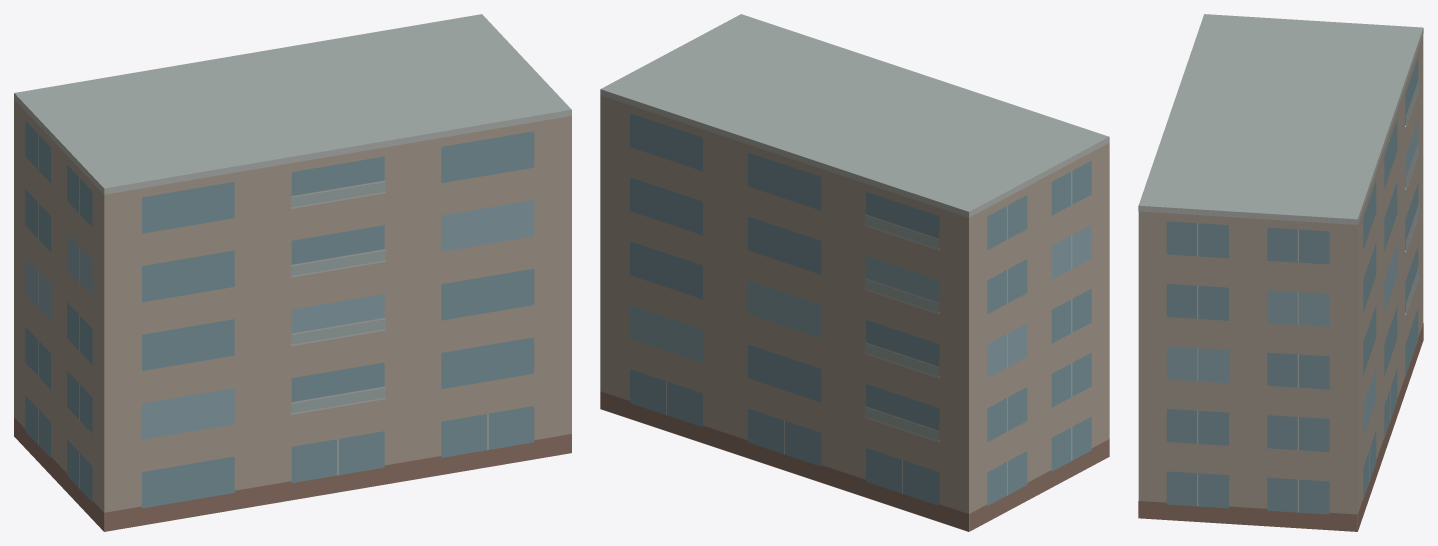
The model's file is survey-upis-32637642.glb.
The picture shows the model from 3 angles, left to right: view 1: azimuth 30°, elevation 25°; view 2: azimuth 150°, elevation 25°; view 3: azimuth 270°, elevation 25°; orthographic projection. The views are drawn at different scales.
Parts seen in each view (by area): view 1: survey-upis-32637642.tmp; view 2: survey-upis-32637642.tmp; view 3: survey-upis-32637642.tmp.
Part boxes in pixels (<box>): survey-upis-32637642.tmp: <box>14,14,571,531</box>; survey-upis-32637642.tmp: <box>600,14,1109,531</box>; survey-upis-32637642.tmp: <box>1138,14,1423,531</box>.
Bounding box in the file's own units: 18.89 × 13.4 × 11.09.
